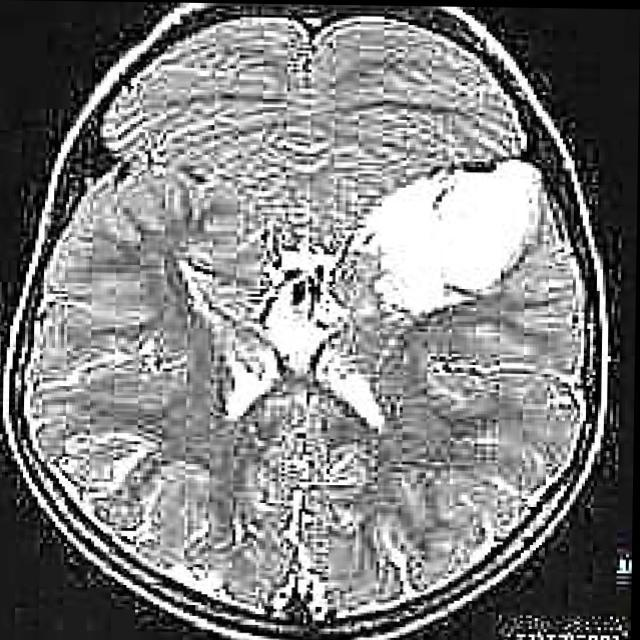Tumor: (355, 155, 542, 301)
